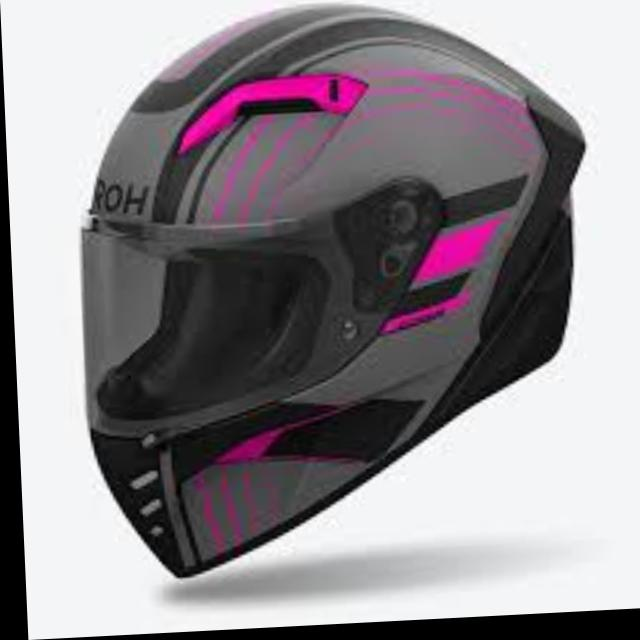motorcycle-helmets: (81, 7, 582, 575)
